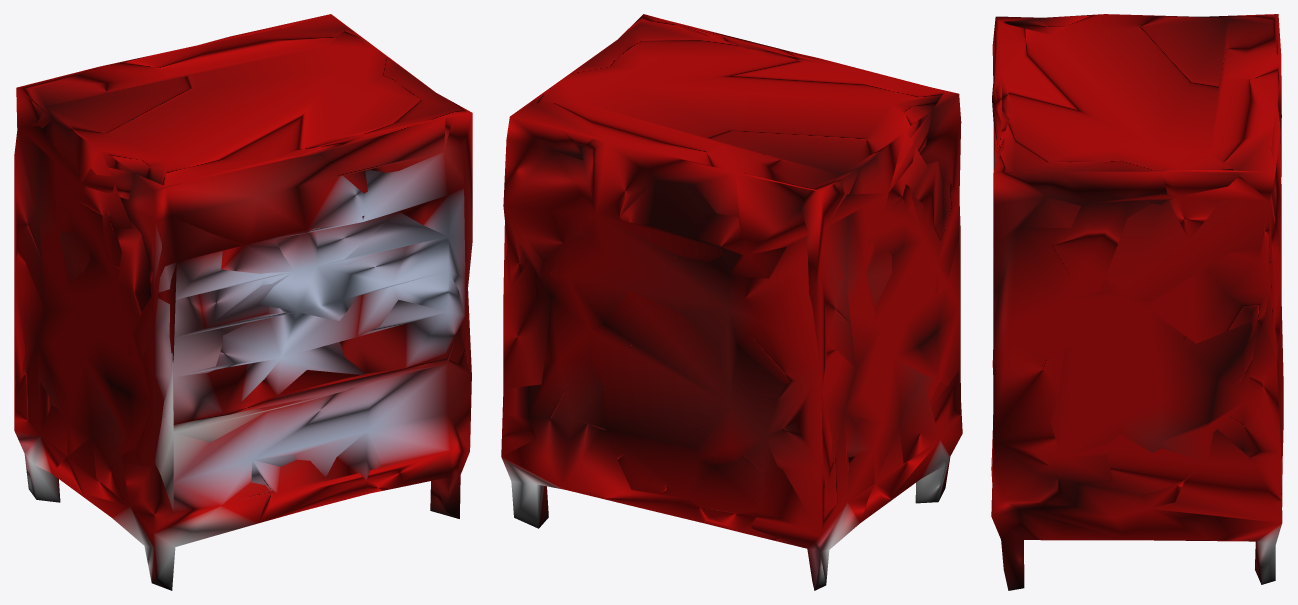
File: gen3d-tool-chest-lod0.glb
3 renders of one model, left to right at view 1: azimuth 30°, elevation 25°; view 2: azimuth 150°, elevation 25°; view 3: azimuth 270°, elevation 25°, orthographic. The views are drawn at different scales.
Parts seen in each view (by area): view 1: part_0; view 2: part_0; view 3: part_0.
Part boxes in pixels (<box>): part_0: <box>14,14,472,590</box>; part_0: <box>501,14,962,590</box>; part_0: <box>991,14,1283,590</box>.
Size of the model in its own units: 0.8153 by 0.9959 by 0.6245.
